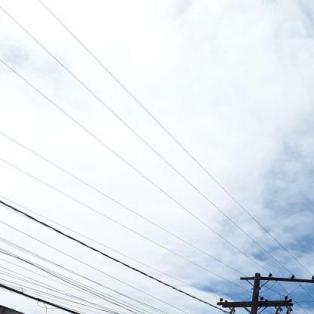Poste: (225, 271, 263, 314)
